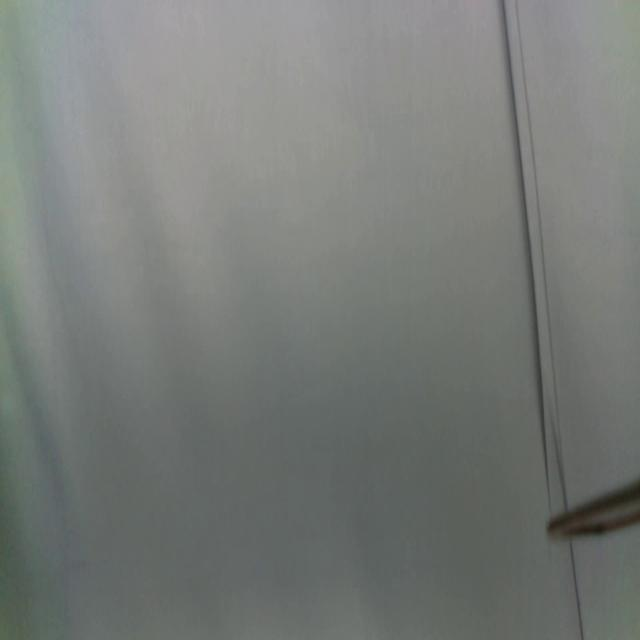crease: (500, 0, 568, 509), (568, 544, 585, 640)
